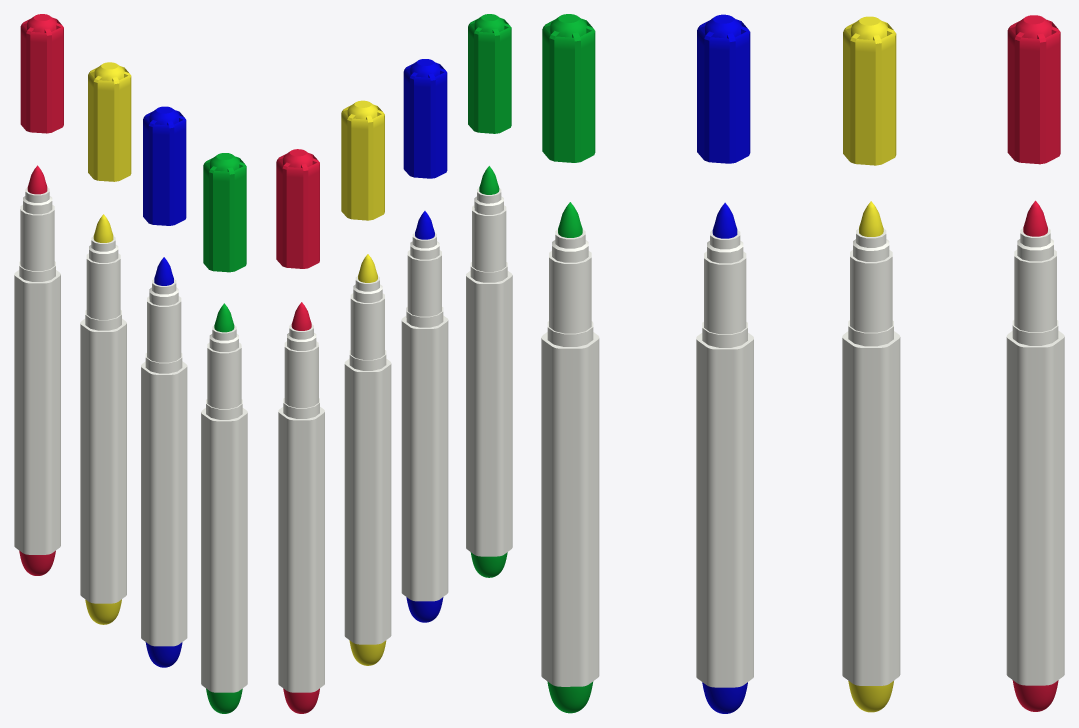
Rendered from uploads_files_2647960_markers.fbx.
The picture shows the model from 3 angles, left to right: view 1: azimuth 30°, elevation 25°; view 2: azimuth 150°, elevation 25°; view 3: azimuth 270°, elevation 25°; orthographic projection. The views are drawn at different scales.
Visible parts, largest first — view 1: marker-blue, marker-green, marker-yellow, marker-red, cap-blue, cap-red, cap-yellow, cap-green; view 2: marker-yellow, marker-blue, marker-green, marker-red, cap-blue, cap-yellow, cap-red, cap-green; view 3: marker-green, marker-red, marker-yellow, marker-blue, cap-yellow, cap-green, cap-blue, cap-red.
Boxes of the visible parts, left/top/right/bottom form: marker-blue: left=141, top=257, right=187, bottom=667; marker-green: left=201, top=303, right=247, bottom=713; marker-yellow: left=80, top=214, right=126, bottom=624; marker-red: left=14, top=165, right=60, bottom=575; cap-blue: left=143, top=106, right=186, bottom=225; cap-red: left=20, top=14, right=63, bottom=133; cap-yellow: left=88, top=62, right=131, bottom=181; cap-green: left=203, top=153, right=246, bottom=272; marker-yellow: left=344, top=254, right=391, bottom=665; marker-blue: left=401, top=211, right=448, bottom=622; marker-green: left=466, top=166, right=512, bottom=577; marker-red: left=278, top=302, right=324, bottom=713; cap-blue: left=403, top=59, right=447, bottom=178; cap-yellow: left=341, top=100, right=384, bottom=220; cap-red: left=276, top=149, right=319, bottom=268; cap-green: left=468, top=14, right=511, bottom=133; marker-green: left=541, top=202, right=599, bottom=713; marker-red: left=1006, top=200, right=1064, bottom=711; marker-yellow: left=842, top=201, right=900, bottom=712; marker-blue: left=696, top=202, right=753, bottom=713; cap-yellow: left=843, top=16, right=896, bottom=165; cap-green: left=542, top=14, right=595, bottom=162; cap-blue: left=697, top=14, right=750, bottom=163; cap-red: left=1007, top=15, right=1060, bottom=164.
Bounding box in the file's own units: 1.57 × 19.64 × 13.43.
